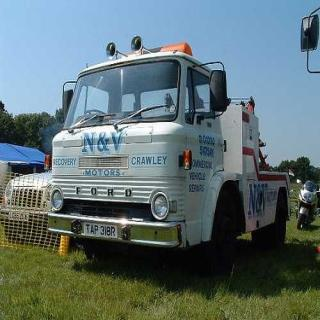Towing_truck: (46, 34, 291, 271)
